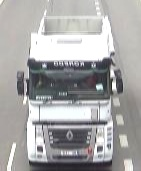truck: (28, 17, 113, 167)
